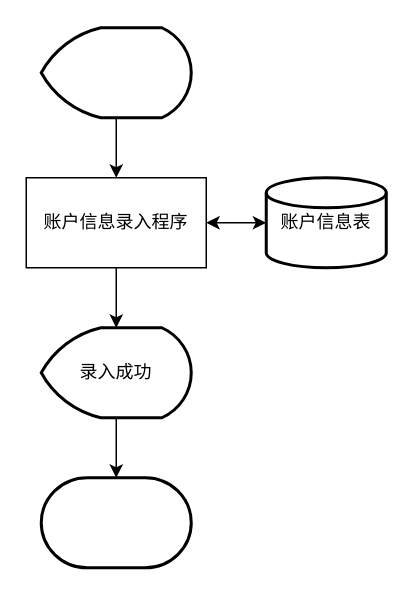
Some shapes in this 414 by 594 pixel diagram are drawn without their labels. The box of each missing label's shape, as (x1, y1, x2, y2) in pixels:
结束: (39, 476, 192, 568)
账户信息录入: (39, 26, 192, 118)
